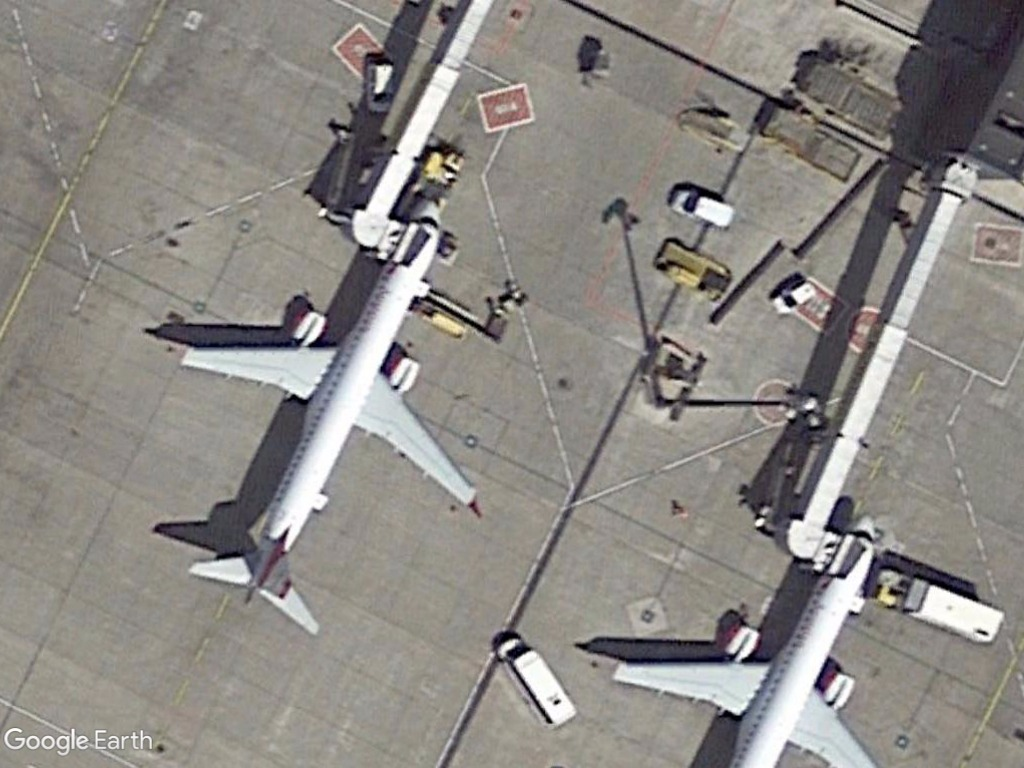airliner: (172, 190, 484, 641)
van: (495, 633, 579, 729), (666, 183, 739, 233), (362, 57, 398, 118), (769, 276, 819, 316)
